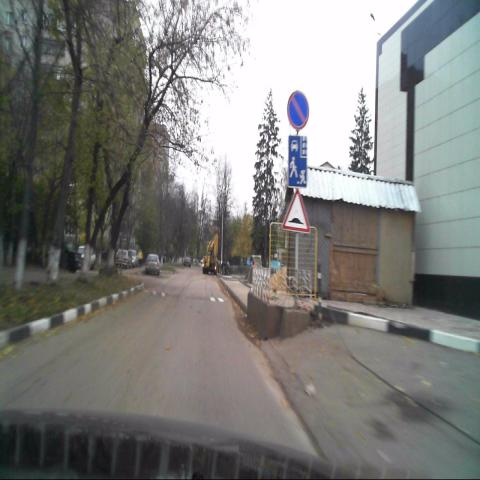5_21: (288, 136, 308, 190)
